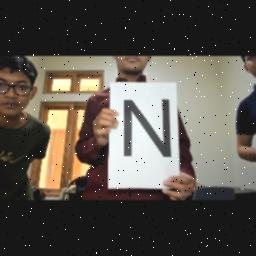n: (118, 96, 184, 172)
